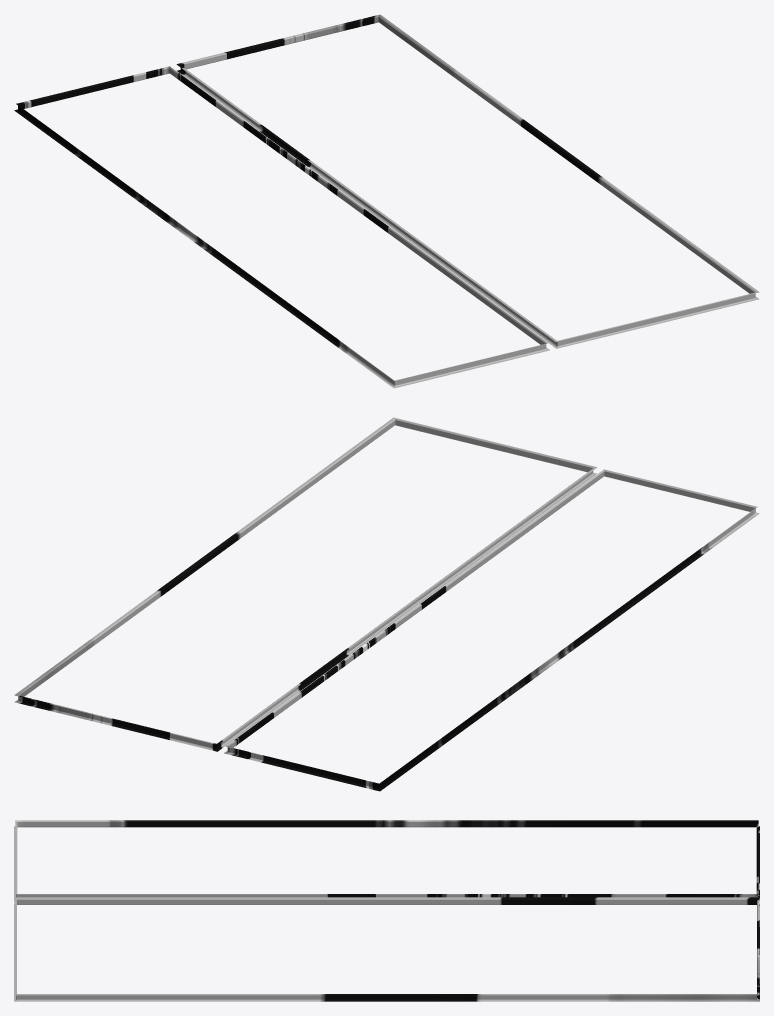
Rendered from Fridge_Body_1.obj.
The picture shows the model from 3 angles, top to bottom: view 1: azimuth 30°, elevation 25°; view 2: azimuth 150°, elevation 25°; view 3: azimuth 270°, elevation 25°; orthographic projection.
Size of the model in its own units: 0.902 by 0.0158 by 1.62.
